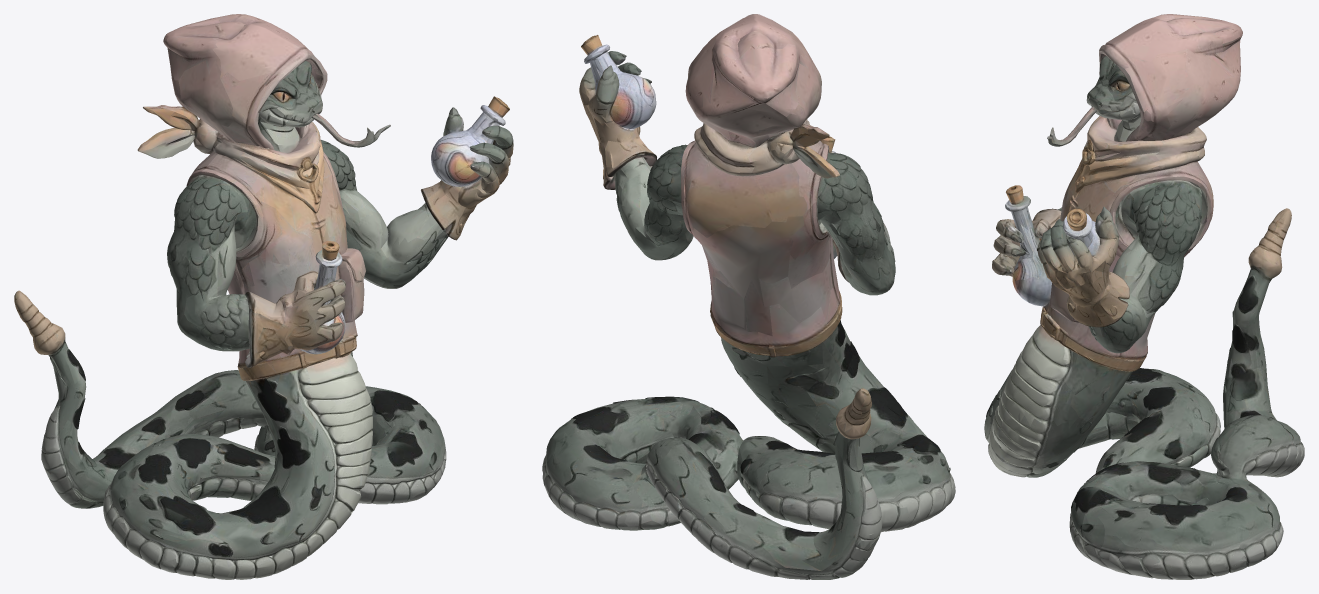
The picture shows the model from 3 angles, left to right: view 1: azimuth 30°, elevation 25°; view 2: azimuth 150°, elevation 25°; view 3: azimuth 270°, elevation 25°; orthographic projection. The views are drawn at different scales.
Bounding box in the file's own units: 1.6 × 1.9 × 1.16.
Materials: 1 (1 with a texture image).
